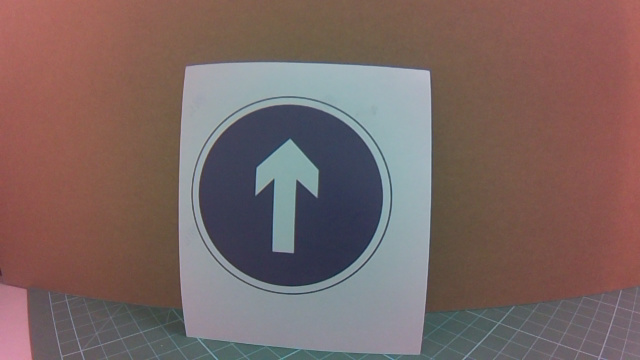forward: (214, 101, 397, 307)
